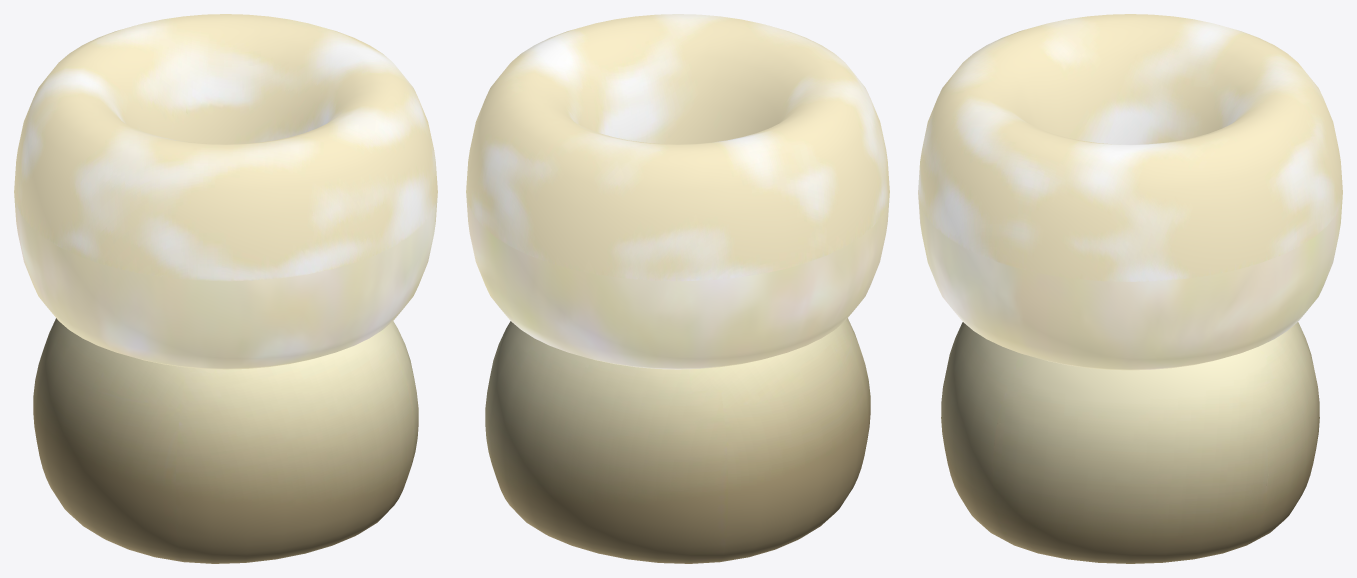
File: lamp3-transformed.glb
The picture shows the model from 3 angles, left to right: view 1: azimuth 30°, elevation 25°; view 2: azimuth 150°, elevation 25°; view 3: azimuth 270°, elevation 25°; orthographic projection.
Visible parts, largest first — view 1: Torus, Cube; view 2: Torus, Cube; view 3: Torus, Cube.
Boxes of the visible parts, x1,y1,x2,y2 form: Torus: [14, 14, 437, 369]; Cube: [33, 318, 418, 563]; Torus: [466, 14, 889, 369]; Cube: [485, 318, 870, 563]; Torus: [918, 14, 1342, 370]; Cube: [941, 322, 1319, 563].
Size of the model in its own units: 1.79 by 1.93 by 1.79.
Materials: 2 (2 with a texture image).
